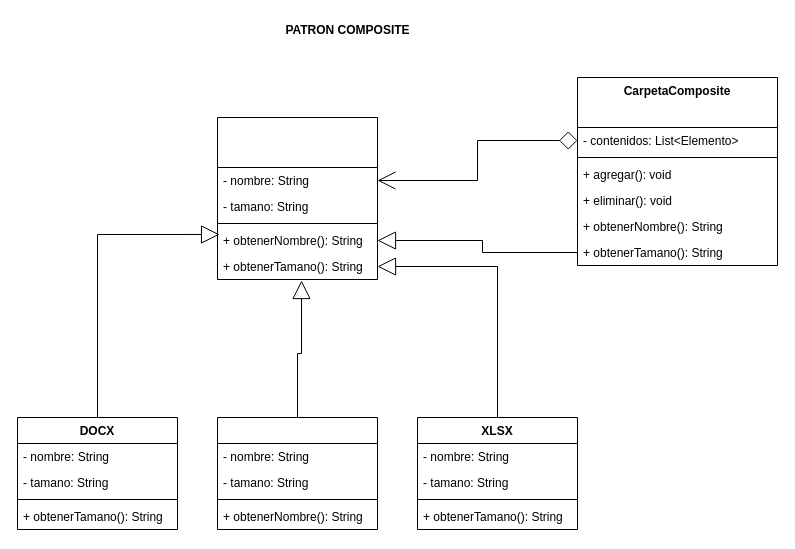
The diagram is 795 pixels wide and 549 high, and some of its shapes have lost their labels. The shapes that lost their labels are listed below. From the top down, each one's box as (x1, y1, x2, y2) in pixels, then its label:
(216, 116, 378, 280): <<abstract>> Elemento
(216, 416, 378, 530): PDF
